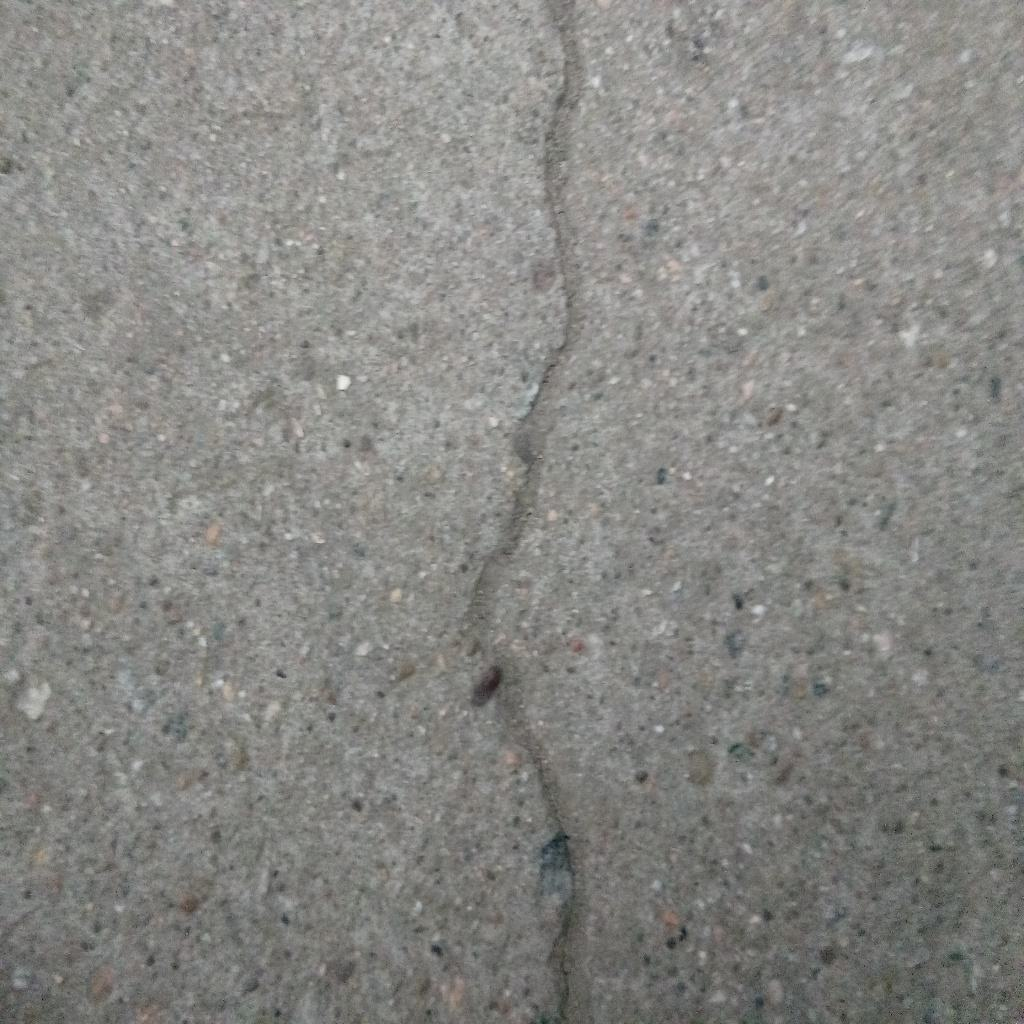Crack: (458, 1, 585, 1024)
